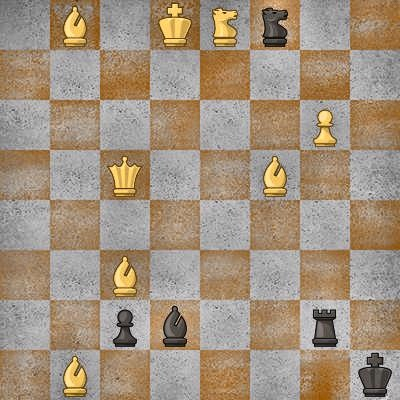black-bishop: (150, 300, 200, 350)
black-king: (350, 350, 400, 400)
black-knight: (250, 0, 300, 50)
black-pawn: (100, 300, 150, 350)
black-rook: (300, 300, 350, 350)
white-bishop: (50, 0, 100, 50), (250, 150, 300, 200), (100, 250, 150, 300), (50, 350, 100, 400)
white-king: (150, 0, 200, 50)
white-knight: (200, 0, 250, 50)
white-pawn: (300, 100, 350, 150)
white-queen: (100, 150, 150, 200)
